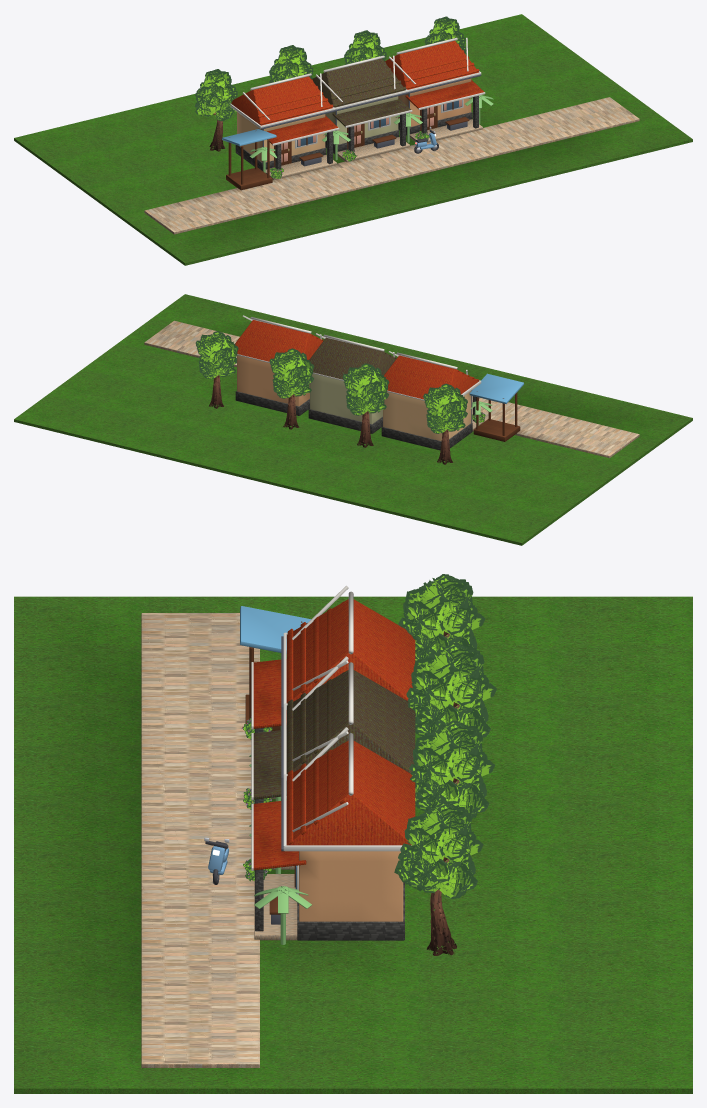
The model's file is kampung_gang.glb.
3 views of the same model, one above another, from view 1: azimuth 30°, elevation 25°; view 2: azimuth 150°, elevation 25°; view 3: azimuth 270°, elevation 25° (orthographic). The views are drawn at different scales.
Visible parts, largest first — view 1: GangGround, GangAlleyPaving, KampungRoof_0, KampungRoof_1, KampungRoof_2, CommonTree_1_inst, KampungHouse_0, CommonTree_1_inst.001, KampungPorchRoof_2, KampungPorchRoof_1, CommonTree_1_inst.002, KampungPorchRoof_0 (+9 smaller); view 2: GangGround, GangAlleyPaving, KampungRoof_0, KampungRoof_2, CommonTree_1_inst.001, KampungRoof_1, CommonTree_1_inst, CommonTree_1_inst.002, KampungHouse_0, CommonTree_1_inst.003, KampungHouse_1, KampungHouse_2 (+5 smaller); view 3: GangGround, GangAlleyPaving, KampungRoof_2, KampungRoof_1, KampungRoof_0, CommonTree_1_inst.003, KampungHouse_2, CommonTree_1_inst.001, CommonTree_1_inst.002, CommonTree_1_inst, KampungPorchRoof_2, KampungPlinth_2 (+5 smaller).
Boxes of the visible parts, x1,y1,x2,y2 form: GangGround: (14, 14, 692, 265); GangAlleyPaving: (144, 97, 639, 234); KampungRoof_0: (231, 76, 332, 125); KampungRoof_1: (312, 58, 405, 107); KampungRoof_2: (385, 40, 478, 89); CommonTree_1_inst: (195, 69, 237, 151); KampungHouse_0: (237, 112, 325, 162); CommonTree_1_inst.001: (269, 45, 313, 83); KampungPorchRoof_2: (405, 80, 483, 108); KampungPorchRoof_1: (332, 97, 410, 126); CommonTree_1_inst.002: (344, 30, 386, 64); KampungPorchRoof_0: (267, 115, 337, 144); GangGround: (14, 294, 692, 545); GangAlleyPaving: (144, 320, 639, 458); KampungRoof_0: (384, 355, 478, 399); KampungRoof_2: (235, 320, 322, 361); CommonTree_1_inst.001: (342, 363, 389, 447); KampungRoof_1: (309, 337, 396, 379); CommonTree_1_inst: (423, 383, 467, 464); CommonTree_1_inst.002: (269, 348, 314, 429); KampungHouse_0: (383, 391, 471, 441); CommonTree_1_inst.003: (195, 331, 238, 408); KampungHouse_1: (310, 374, 382, 424); KampungHouse_2: (237, 355, 309, 406); GangGround: (14, 596, 692, 1093); GangAlleyPaving: (141, 613, 259, 1067); KampungRoof_2: (287, 740, 415, 845); KampungRoof_1: (287, 670, 415, 773); KampungRoof_0: (287, 599, 415, 703); CommonTree_1_inst.003: (394, 802, 483, 955); KampungHouse_2: (299, 851, 403, 921); CommonTree_1_inst.001: (406, 642, 496, 737); CommonTree_1_inst.002: (409, 720, 494, 818); CommonTree_1_inst: (398, 574, 485, 660); KampungPorchRoof_2: (253, 800, 306, 870); KampungPlinth_2: (297, 882, 404, 940).
Bounding box in the file's own units: 24 × 3.78 × 14.
25 materials, 13 textured.
